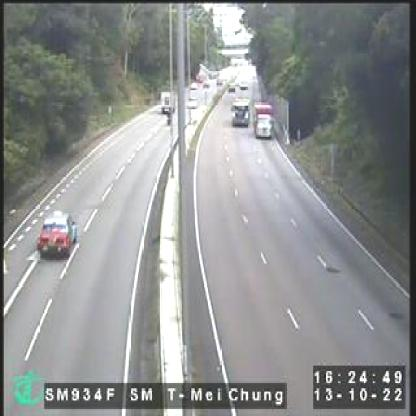Car: (38, 210, 78, 260), (189, 96, 198, 107)
Truck: (253, 100, 272, 140), (230, 98, 249, 127), (161, 90, 175, 116)
